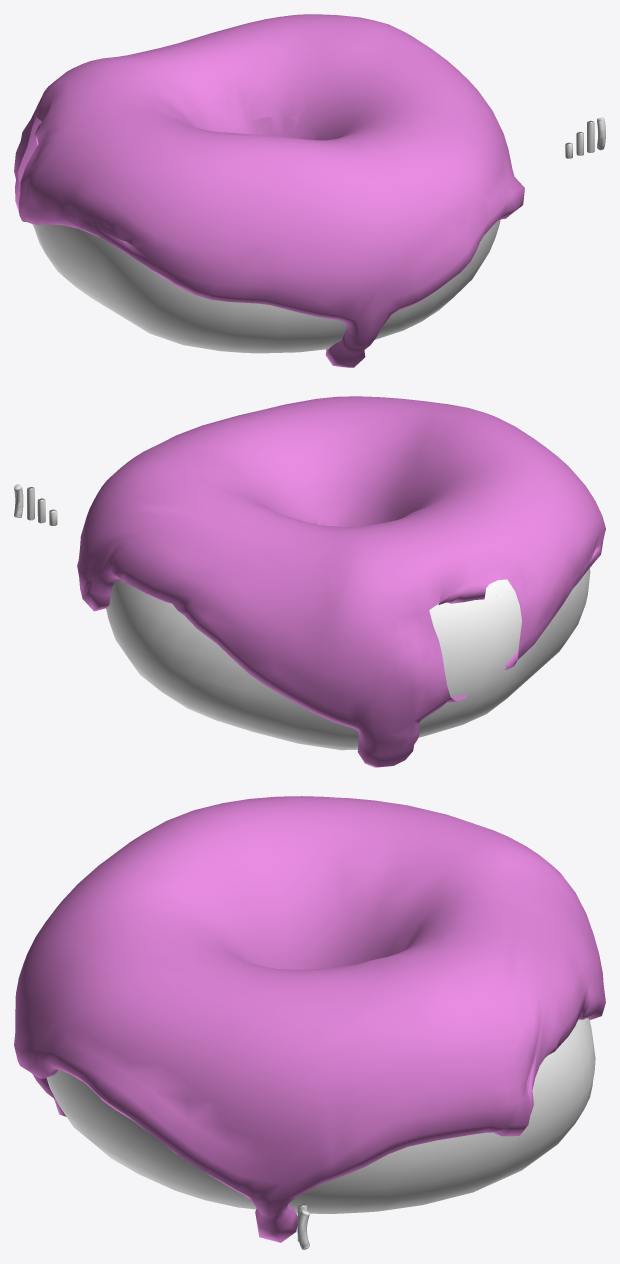
Rendered from Donut.fbx.
3 views of the same model, one above another, from view 1: azimuth 30°, elevation 25°; view 2: azimuth 150°, elevation 25°; view 3: azimuth 270°, elevation 25° (orthographic). The views are drawn at different scales.
Parts seen in each view (by area): view 1: Donut_Icing, Donut_Donut; view 2: Donut_Icing, Donut_Donut; view 3: Donut_Icing, Donut_Donut.
Boxes of the visible parts, x1,y1,x2,y2 form: Donut_Icing: [14, 14, 524, 367]; Donut_Donut: [33, 220, 500, 353]; Donut_Icing: [77, 396, 605, 767]; Donut_Donut: [106, 568, 590, 750]; Donut_Icing: [14, 796, 605, 1242]; Donut_Donut: [46, 1018, 595, 1213].
Bounding box in the file's own units: 0.293 × 0.1092 × 0.228.
